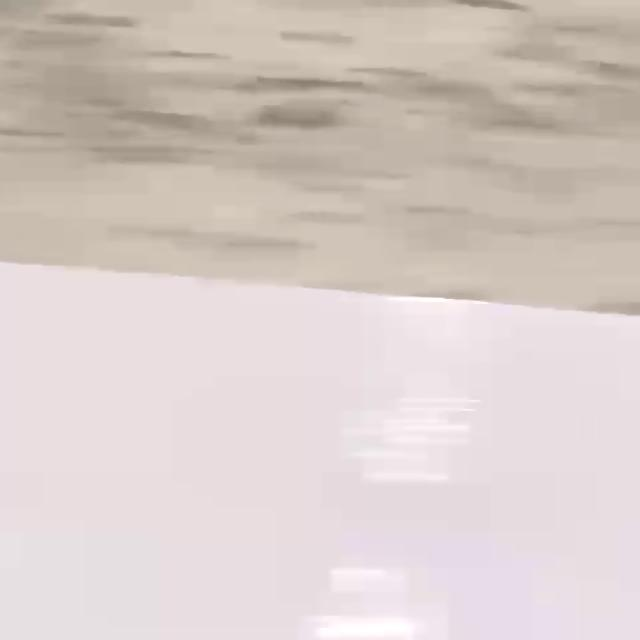road: (3, 263, 640, 640)
